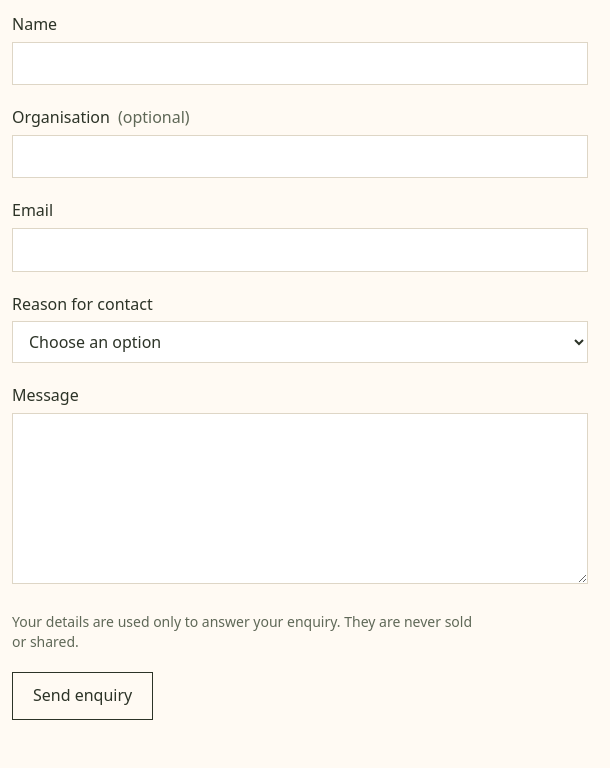
Scenario: ContactForm › translates server error codes rather than leaking them
Type "Organiser" into the field labelled "Name" at (300, 63), box [12,42,588,85]
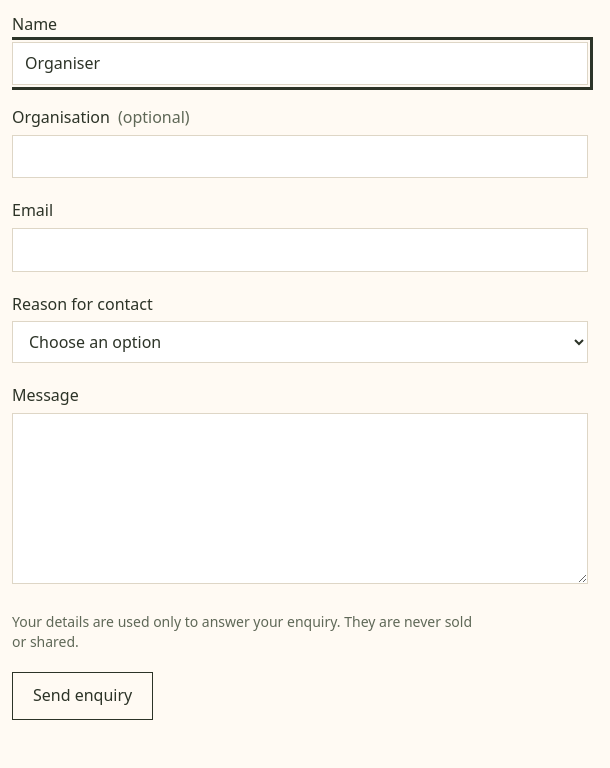
Type "org@example.com" into the field labelled "Email" at (300, 250), box [12,228,588,272]
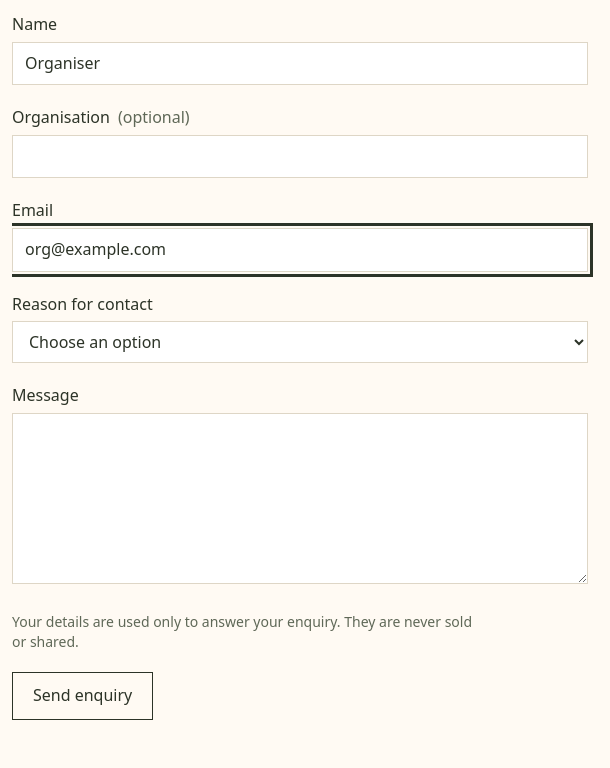
Select "Speaking & events" in the dropdown labelled "Reason for contact" at (300, 342), box [12,321,588,363]
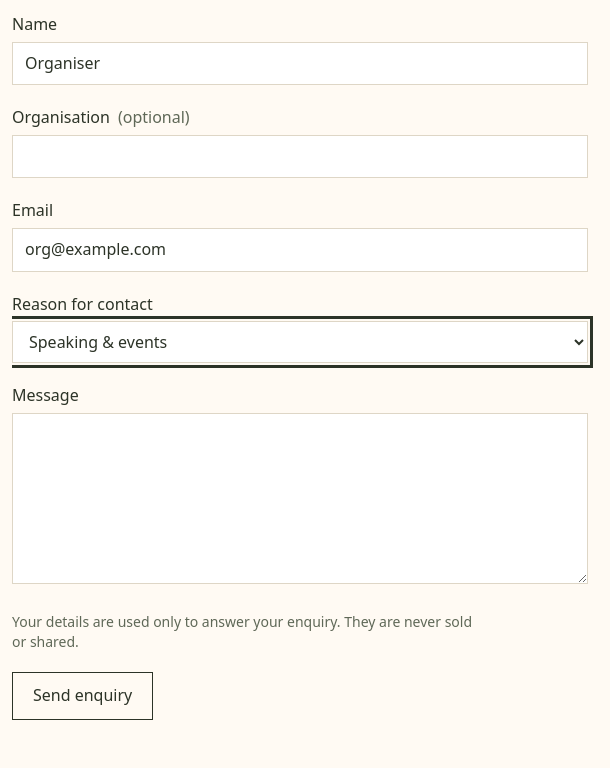
Type "Would you speak at our conference?" into the text box labelled "Message" at (300, 499), box [12,413,588,584]
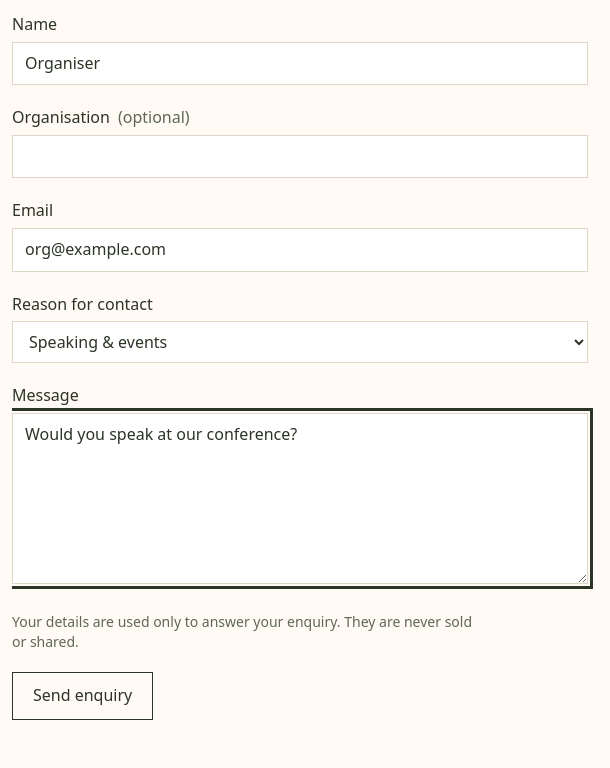
Click the button "Send enquiry" at (83, 696), box [12,672,153,720]
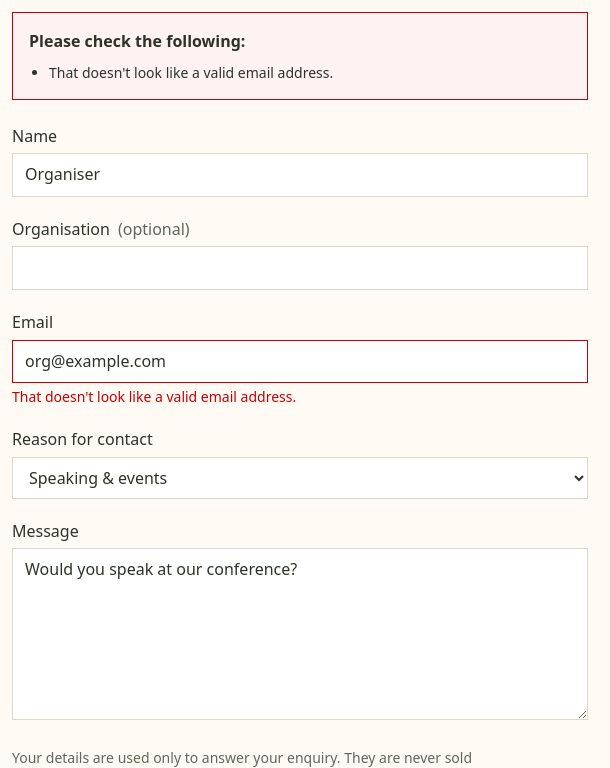
Expected: the message shows "That doesn't look like a valid email address.", [49,63,333,82]
